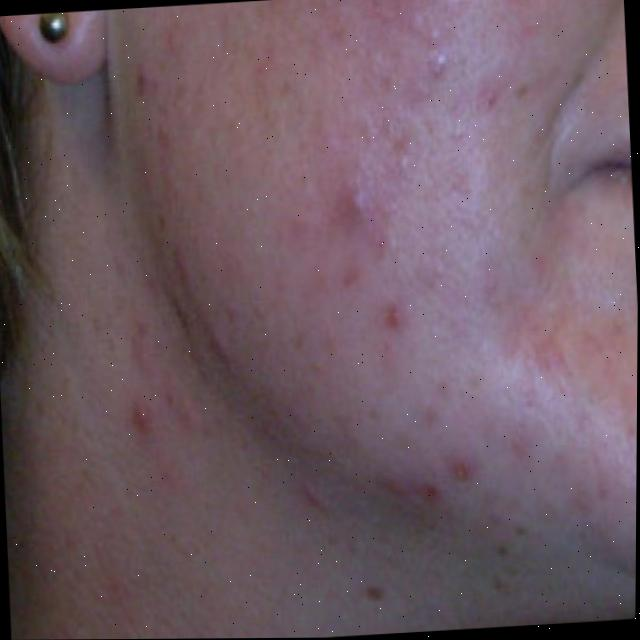Acne: (125, 22, 636, 588)
